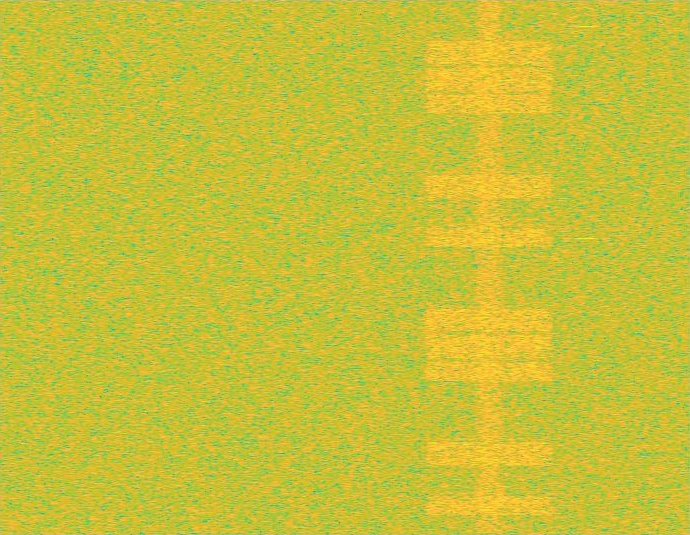DSSS: (474, 0, 505, 534)
LTE: (420, 0, 558, 534)
Radar: (580, 0, 594, 534)
